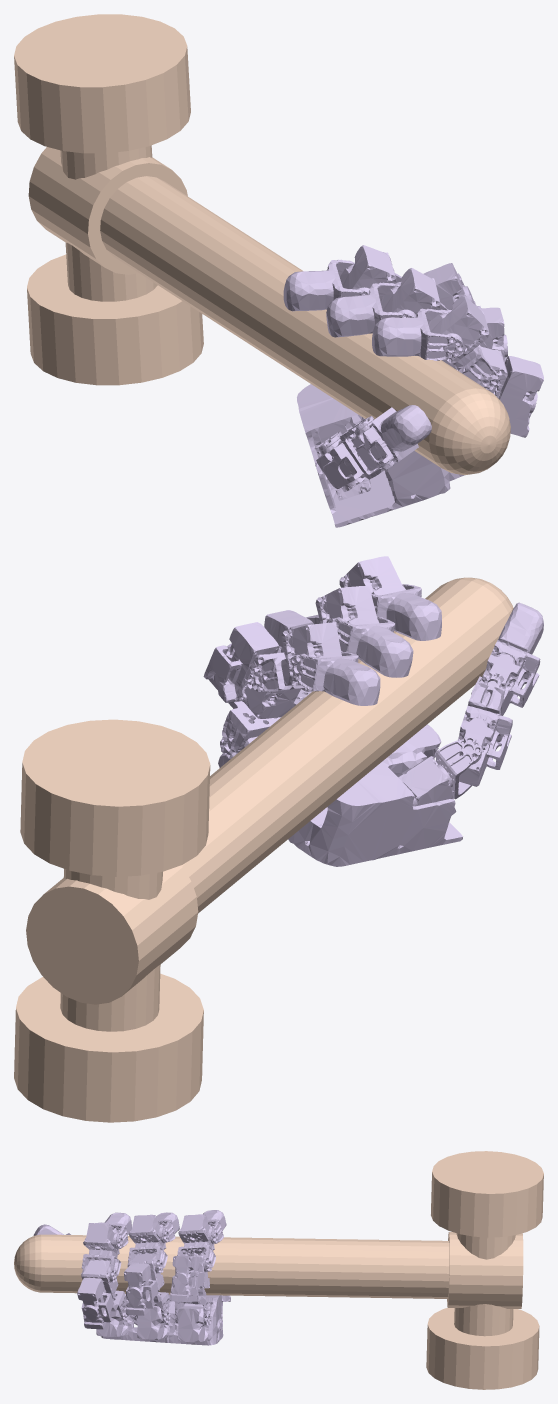
3 renders of one model, top to bottom at view 1: azimuth 30°, elevation 25°; view 2: azimuth 150°, elevation 25°; view 3: azimuth 270°, elevation 25°, orthographic. The views are drawn at different scales.
Parts seen in each view (by area): view 1: world, LEAP_hand; view 2: world, LEAP_hand; view 3: world, LEAP_hand.
Part boxes in pixels (x1,y1,x2,y2): world: (14,14,510,475); LEAP_hand: (283,245,543,527); world: (14,577,513,1122); LEAP_hand: (203,556,543,866); world: (14,1151,543,1389); LEAP_hand: (33,1210,230,1345).
Size of the model in its own units: 0.1699 by 0.2215 by 0.5396.
